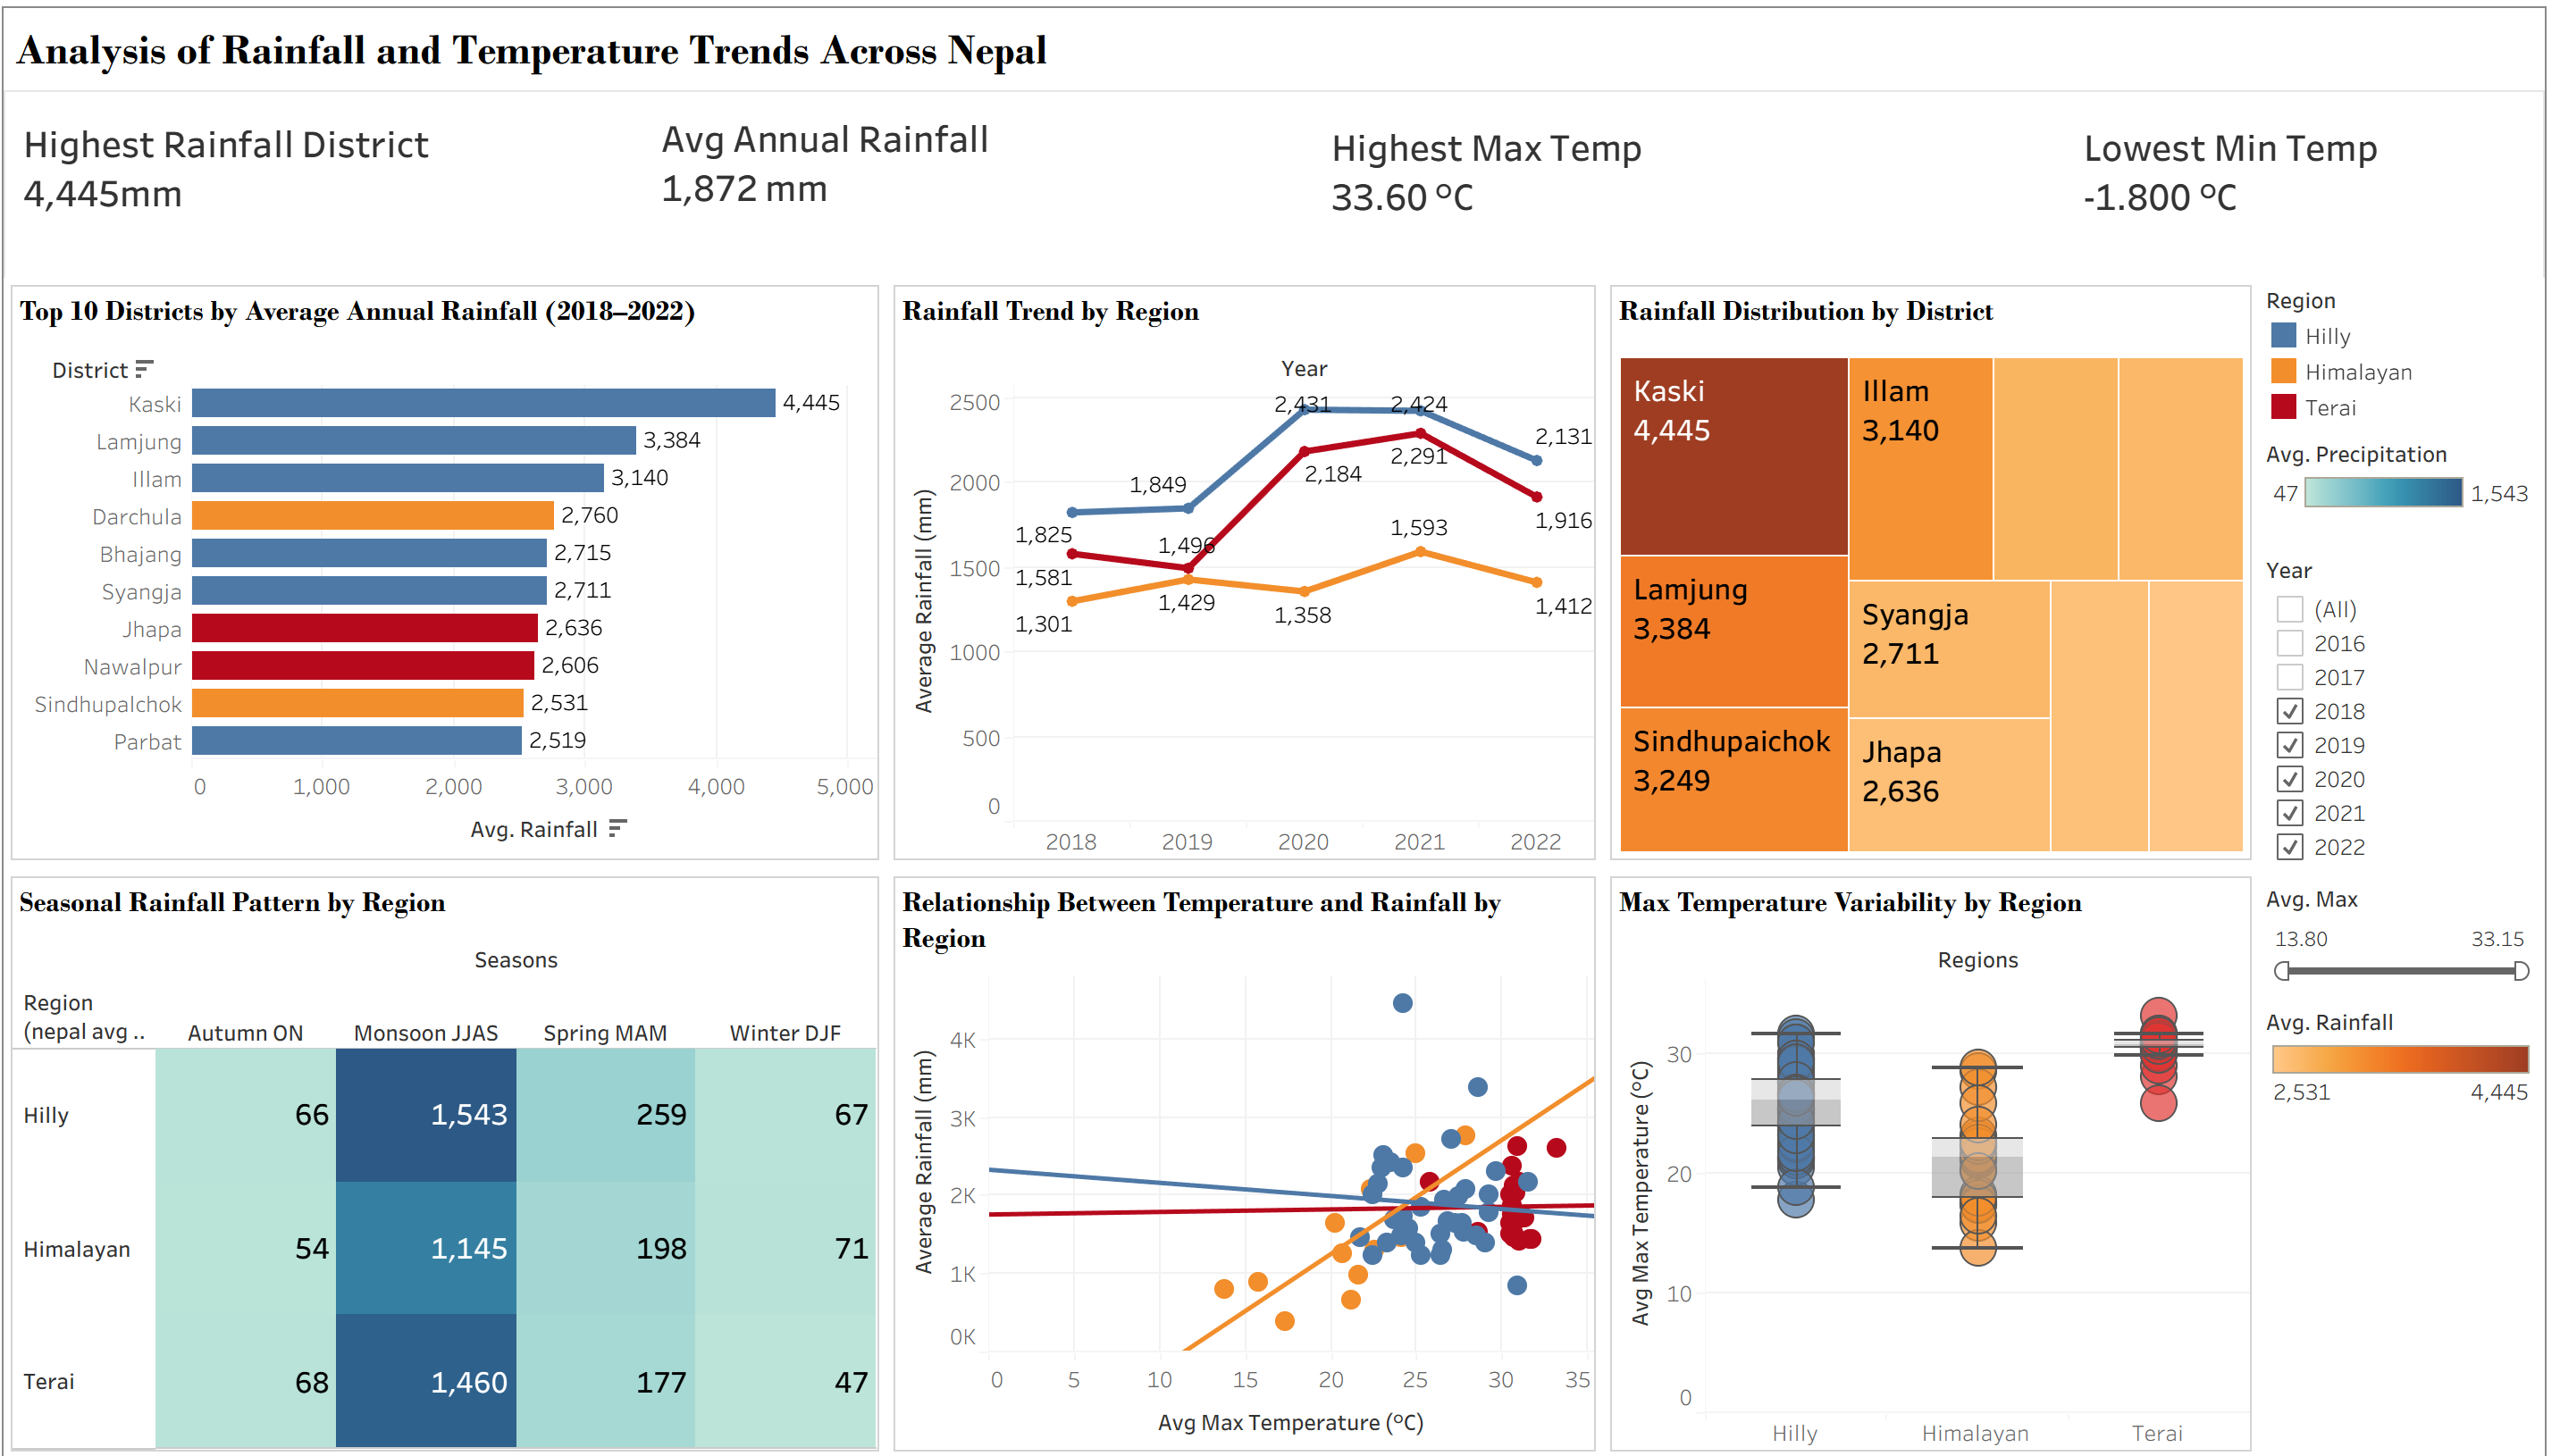

Layout of this report page (visuals, bound fields, positions):
{"tool":"tableau","page":{"name":"Dashboard 2","canvas":[1000,1000],"units":"permille","ordinal":0},"visuals":[{"type":"text","box":[7.3,12.4,985.4,54.9]},{"type":"worksheet","title":"KPI2","mark":"Automatic","box":[258.8,63.5,188,110.5]},{"type":"worksheet","title":"KPI1","mark":"Automatic","box":[11.4,67.7,201,98.1]},{"type":"worksheet","title":"KPI3","mark":"Automatic","box":[519.1,70.4,171.7,98.1]},{"type":"worksheet","title":"KPI4","mark":"Automatic","box":[812,70.4,164.4,105]},{"type":"worksheet","title":"Top 10 Districts by Average Annual Rainfall (2018–2022)","mark":"Automatic","rows":["District"],"cols":["Rainfall"],"box":[7.3,194.1,334.4,396.6]},{"type":"worksheet","title":"Rainfall Trend by Region (2018–2022)","mark":"Line","rows":["Rainfall"],"cols":["Year"],"box":[341.8,194.1,272.1,396.6]},{"type":"worksheet","title":"Rainfall Distribution by District ","mark":"Square","box":[613.8,194.1,248.7,396.6]},{"type":"legend","title":"Top 10 Districts by Average Annual Rainfall (2018–2022)","param":"[federated.0rblrot1wfwqeb16oagw513191v9].[none:Region:nk]","box":[862.5,194.1,130.2,118.8]},{"type":"legend","title":"Seasonal Rainfall Pattern by Region","param":"[federated.0rblrot1wfwqeb16oagw513191v9].[avg:Pivot Field Values:qk]","box":[862.5,312.9,130.2,89.8]},{"type":"filter","title":"Rainfall Trend by Region (2018–2022)","param":"[federated.0rblrot1wfwqeb16oagw513191v9].[none:Year:ok]","box":[862.5,402.6,130.2,254.1]},{"type":"worksheet","title":"Seasonal Rainfall Pattern by Region","mark":"Square","rows":["Region (nepal_avg_precipitation_cleaned.csv)"],"cols":["Pivot Field Names"],"box":[7.3,590.7,334.4,396.9]},{"type":"worksheet","title":"Relationship Between Temperature and Rainfall by Region","mark":"Circle","rows":["Rainfall"],"cols":["Max"],"box":[341.8,590.7,272.1,396.9]},{"type":"worksheet","title":"box","mark":"Circle","rows":["Max"],"cols":["Region (nepal_temperature_cleaned.csv)"],"box":[613.8,590.7,248.7,396.9]},{"type":"filter","title":"box","param":"[federated.0rblrot1wfwqeb16oagw513191v9].[avg:Max:qk]","box":[862.5,656.8,130.2,95.3]},{"type":"legend","title":"Rainfall Distribution by District ","param":"[federated.0rblrot1wfwqeb16oagw513191v9].[avg:Rainfall:qk]","box":[862.5,752.1,130.2,89.8]}]}

Visuals, with their boxes on the dashboard's canvas, which has no fixed pixel size, in thousandths of its width and height (x1, y1, x2, y2). These are canvas units, not pixel positions in the 2560x1456 screenshot, which may show the page scaled, cropped or inside an application window:
text: select_region(7, 12, 993, 67)
"KPI2" worksheet: select_region(259, 64, 447, 174)
"KPI1" worksheet: select_region(11, 68, 212, 166)
"KPI3" worksheet: select_region(519, 70, 691, 168)
"KPI4" worksheet: select_region(812, 70, 976, 175)
"Top 10 Districts by Average Annual Rainfall (2018–2022)" worksheet: select_region(7, 194, 342, 591)
"Rainfall Trend by Region (2018–2022)" worksheet (Line marks): select_region(342, 194, 614, 591)
"Rainfall Distribution by District " worksheet (Square marks): select_region(614, 194, 862, 591)
"Top 10 Districts by Average Annual Rainfall (2018–2022)" legend: select_region(862, 194, 993, 313)
"Seasonal Rainfall Pattern by Region" legend: select_region(862, 313, 993, 403)
"Rainfall Trend by Region (2018–2022)" filter: select_region(862, 403, 993, 657)
"Seasonal Rainfall Pattern by Region" worksheet (Square marks): select_region(7, 591, 342, 988)
"Relationship Between Temperature and Rainfall by Region" worksheet (Circle marks): select_region(342, 591, 614, 988)
"box" worksheet (Circle marks): select_region(614, 591, 862, 988)
"box" filter: select_region(862, 657, 993, 752)
"Rainfall Distribution by District " legend: select_region(862, 752, 993, 842)
